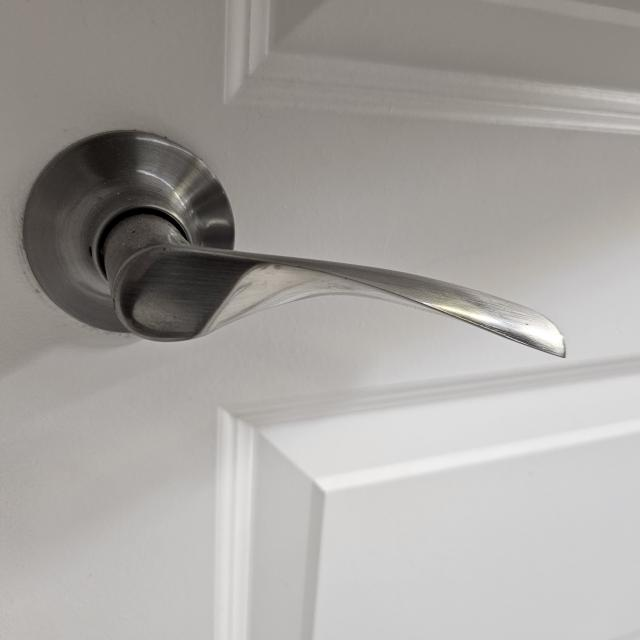door-handle: (24, 131, 565, 358)
